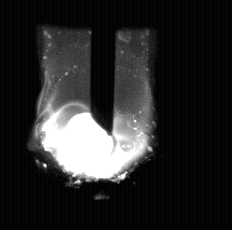arame: (92, 0, 115, 136)
poca: (37, 0, 152, 230)
